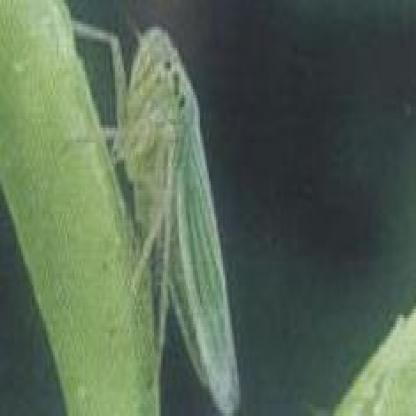Green-Leafhopper: (64, 15, 238, 416)
